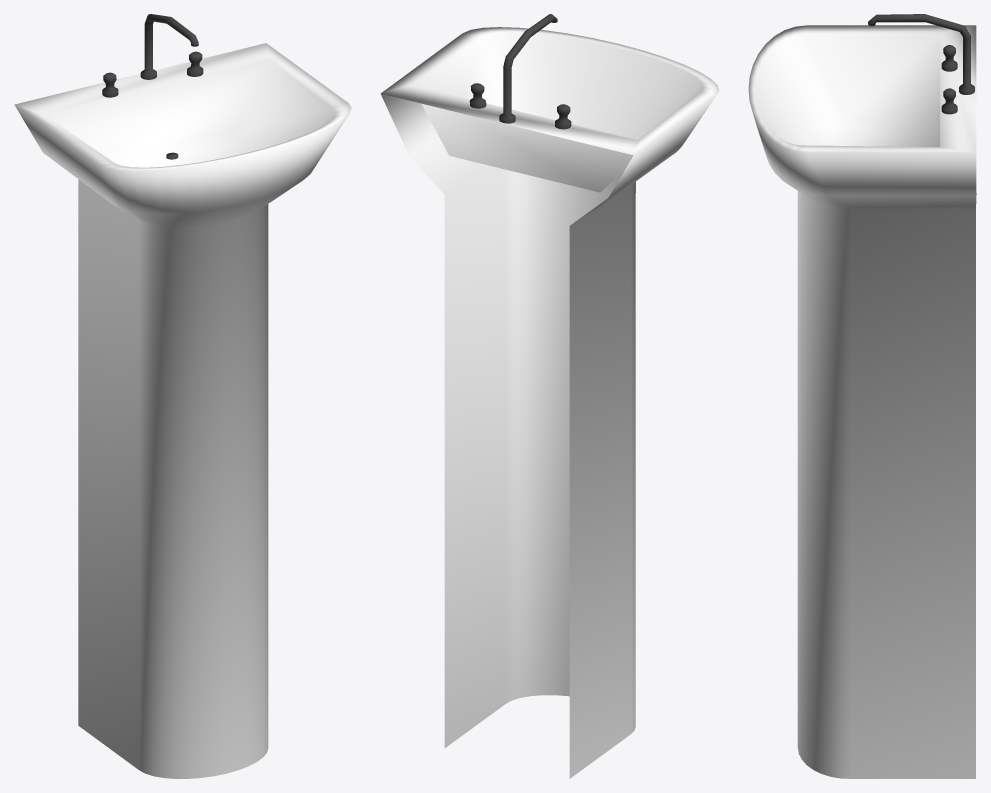
The model's file is HandWasher.gltf.
The picture shows the model from 3 angles, left to right: view 1: azimuth 30°, elevation 25°; view 2: azimuth 150°, elevation 25°; view 3: azimuth 270°, elevation 25°; orthographic projection. The views are drawn at different scales.
Visible parts, largest first — view 1: Washer; view 2: Washer; view 3: Washer.
Part boxes in pixels (<box>): Washer: <box>14,14,351,778</box>; Washer: <box>380,14,719,778</box>; Washer: <box>748,14,976,778</box>.
Size of the model in its own units: 1.92 by 5.16 by 1.45.
Materials: 2 (2 with a texture image).
